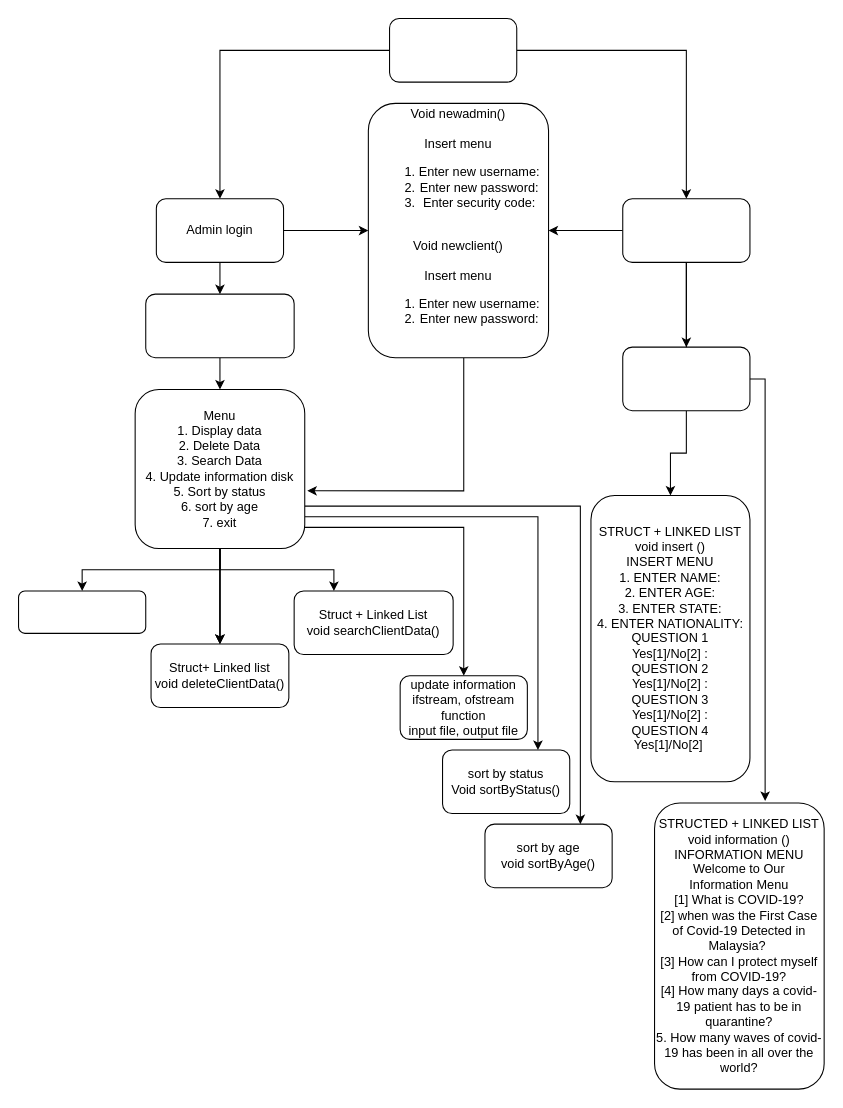
This 843x1108 diagram has some shape labels left out. The shapes that lost their labels are listed below. From the top down, each one's centre as x and y in pixels, then its label:
the point at 452,49: Main Function 1. Admin 2. Client
the point at 686,230: Client login
the point at 219,325: Enter username: Enter password:
the point at 686,378: Menu 1. Assessment 2. Information 3. Exit
the point at 81,611: Display data
